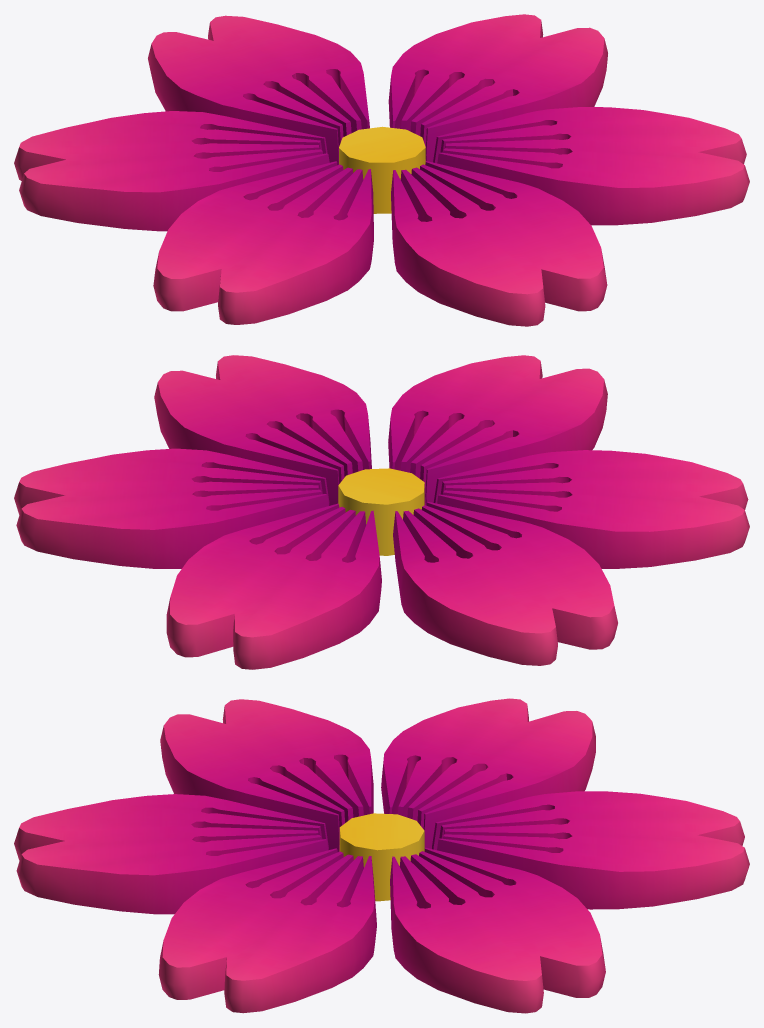
The model's file is purple.fbx.
3 views of the same model, one above another, from view 1: azimuth 30°, elevation 25°; view 2: azimuth 150°, elevation 25°; view 3: azimuth 270°, elevation 25° (orthographic).
Parts seen in each view (by area): view 1: Cylinder004.012; view 2: Cylinder004.012; view 3: Cylinder004.012.
Part boxes in pixels (x1,y1,x2,y2): Cylinder004.012: (14,14,749,326); Cylinder004.012: (14,355,749,669); Cylinder004.012: (14,698,749,1013).
Size of the model in its own units: 29.68 by 2.47 by 32.19.
